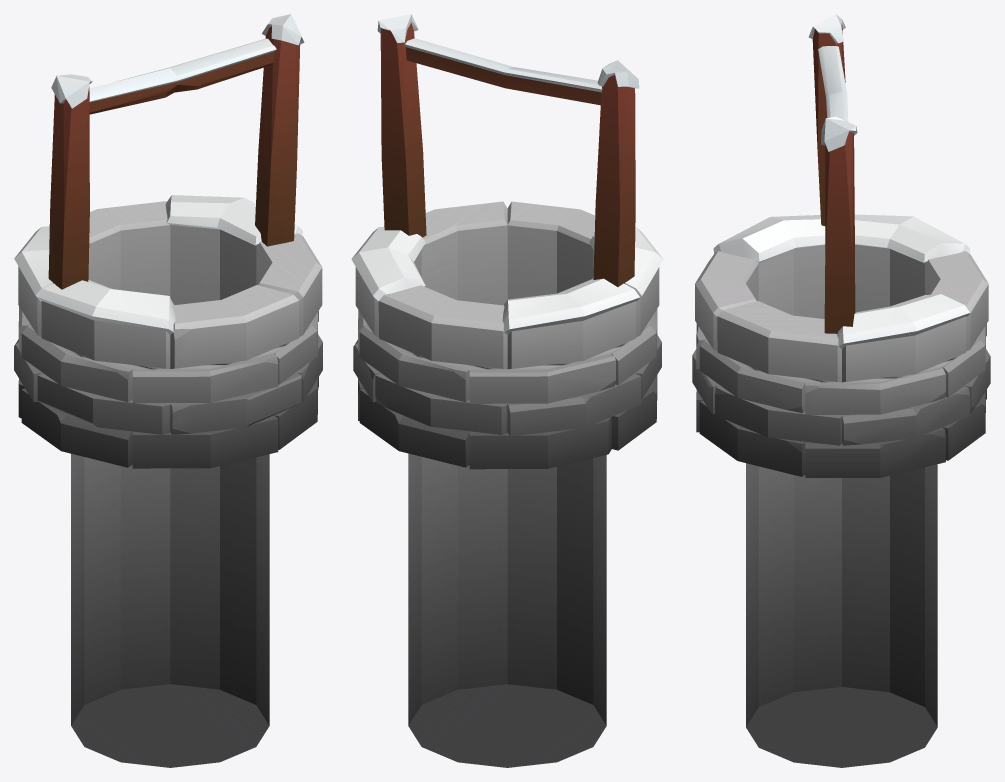
3 renders of one model, left to right at view 1: azimuth 30°, elevation 25°; view 2: azimuth 150°, elevation 25°; view 3: azimuth 270°, elevation 25°, orthographic. The views are drawn at different scales.
Parts seen in each view (by area): view 1: Well; view 2: Well; view 3: Well.
Boxes of the visible parts, <box> form: Well: <box>14,14,322,767</box>; Well: <box>351,14,663,767</box>; Well: <box>692,14,990,767</box>.
Bounding box in the file's own units: 37.22 × 90 × 36.94.
Materials: 1 (1 with a texture image).
